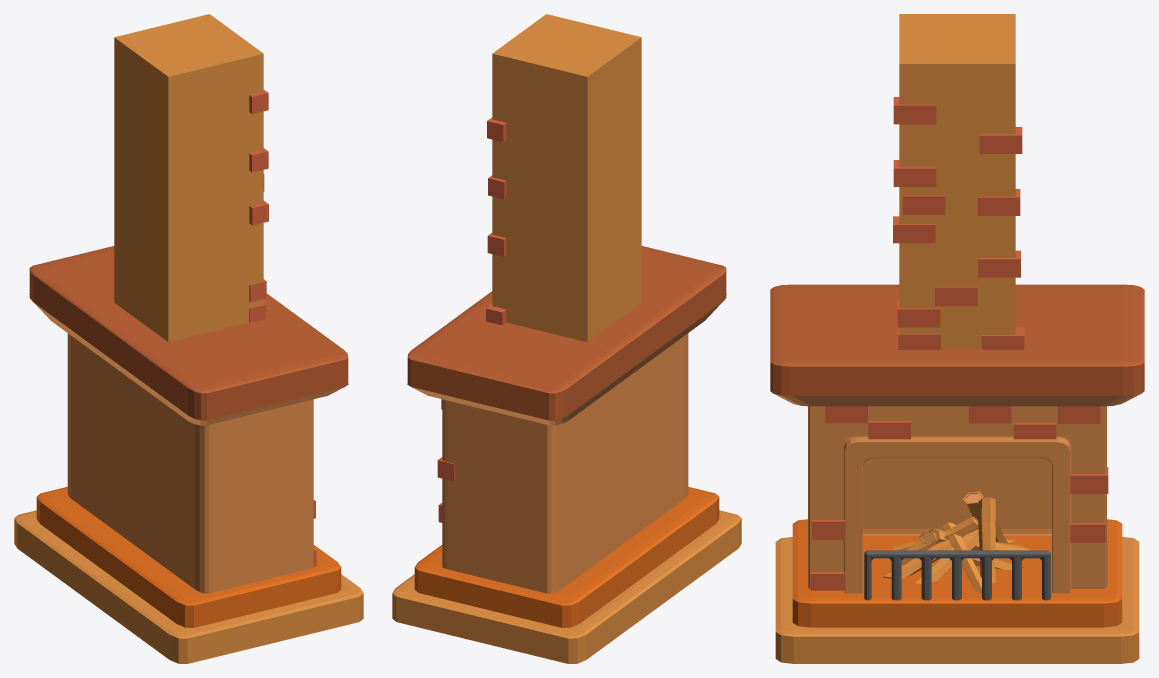
The model's file is api unggun.fbx.
3 views of the same model, side by side, from view 1: azimuth 30°, elevation 25°; view 2: azimuth 150°, elevation 25°; view 3: azimuth 270°, elevation 25° (orthographic). The views are drawn at different scales.
Visible parts, largest first — view 1: Cube.004, Cube.002, Cube.003, Cube, Cube.001; view 2: Cube.004, Cube.002, Cube.003, Cube, Cube.001; view 3: Cube.003, Cube.002, Cube.004, Cube.001, Cube, Cube.005, Cylinder.002, Cube.025, Cube.022, Cube.021, Cube.020, Cube.019 (+18 smaller).
Boxes of the visible parts, x1,y1,x2,y2 form: Cube.004: [114, 14, 263, 342]; Cube.002: [67, 333, 313, 593]; Cube.003: [29, 246, 348, 425]; Cube: [14, 510, 363, 663]; Cube.001: [36, 487, 341, 627]; Cube.004: [492, 14, 641, 342]; Cube.002: [442, 333, 688, 593]; Cube.003: [407, 246, 726, 425]; Cube: [392, 510, 741, 663]; Cube.001: [414, 487, 719, 627]; Cube.003: [770, 284, 1144, 406]; Cube.002: [808, 406, 1106, 593]; Cube.004: [899, 14, 1015, 348]; Cube.001: [792, 519, 1122, 627]; Cube: [775, 537, 1139, 663]; Cube.005: [864, 550, 1050, 600]; Cylinder.002: [978, 497, 995, 583]; Cube.025: [893, 97, 936, 124]; Cube.022: [979, 127, 1022, 153]; Cube.021: [893, 160, 936, 186]; Cube.020: [977, 189, 1020, 215]; Cube.019: [893, 216, 935, 243].
Size of the model in its own units: 35.42 by 95.26 by 56.05.
